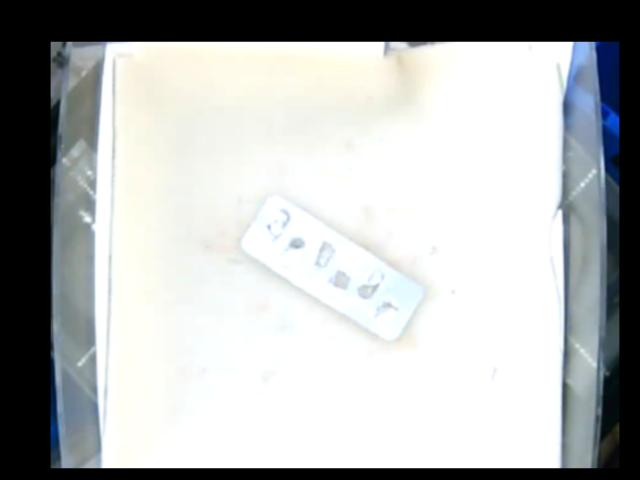Medicine: (243, 195, 422, 341)
